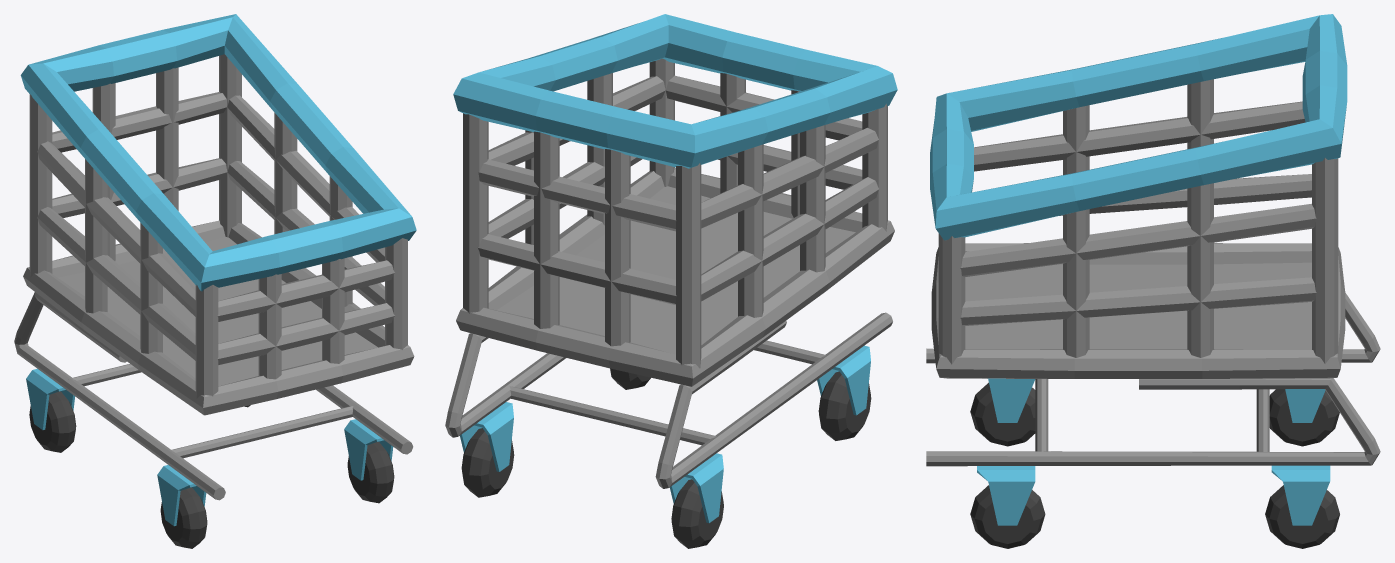
The model's file is sepet.fbx.
3 renders of one model, left to right at view 1: azimuth 30°, elevation 25°; view 2: azimuth 150°, elevation 25°; view 3: azimuth 270°, elevation 25°, orthographic. The views are drawn at different scales.
Visible parts, largest first — view 1: Cube.002, Cube.004, Cube.001, Plane.002, Cube.003, Cylinder, Cylinder.002, Cylinder.003, Plane, Plane.004, Plane.003; view 2: Cube.002, Cube.004, Cube.001, Cube.003, Plane.002, Cylinder.001, Cylinder.003, Cylinder.002, Plane.001, Plane.004, Plane.003; view 3: Cube.002, Cube.004, Cube.001, Cube.003, Plane.002, Cylinder, Cylinder.001, Plane.001, Plane, Cylinder.003, Cylinder.002, Plane.003 (+1 smaller).
Boxes of the visible parts, box(x1,y1,x2,y2) form: Cube.002: box(23, 92, 414, 415); Cube.004: box(20, 14, 416, 291); Cube.001: box(29, 54, 407, 398); Plane.002: box(14, 292, 413, 500); Cube.003: box(58, 236, 377, 386); Cylinder: box(347, 442, 394, 503); Cylinder.002: box(160, 487, 207, 548); Cylinder.003: box(29, 391, 76, 452); Plane: box(344, 419, 393, 480); Plane.004: box(26, 368, 74, 429); Plane.003: box(157, 465, 206, 526); Cube.002: box(456, 75, 894, 386); Cube.004: box(453, 14, 897, 168); Cube.001: box(463, 58, 887, 368); Cube.003: box(497, 186, 855, 354); Plane.002: box(445, 312, 892, 488); Cylinder.001: box(461, 428, 514, 497); Cylinder.003: box(671, 479, 723, 548); Cylinder.002: box(818, 371, 871, 440); Plane.001: box(460, 402, 513, 471); Plane.004: box(669, 453, 723, 523); Plane.003: box(817, 345, 870, 415); Cube.002: box(931, 101, 1345, 378); Cube.004: box(930, 14, 1347, 240); Cube.001: box(938, 79, 1338, 364); Cube.003: box(965, 262, 1311, 349); Plane.002: box(926, 293, 1380, 466); Cylinder: box(970, 485, 1045, 548); Cylinder.001: box(1265, 485, 1339, 548); Plane.001: box(1271, 465, 1330, 525); Plane: box(977, 466, 1035, 525); Cylinder.003: box(1269, 389, 1339, 446); Cylinder.002: box(970, 382, 1035, 446); Plane.003: box(988, 378, 1035, 422).
Bounding box in the file's own units: 54.08 × 89.3 × 85.62.
